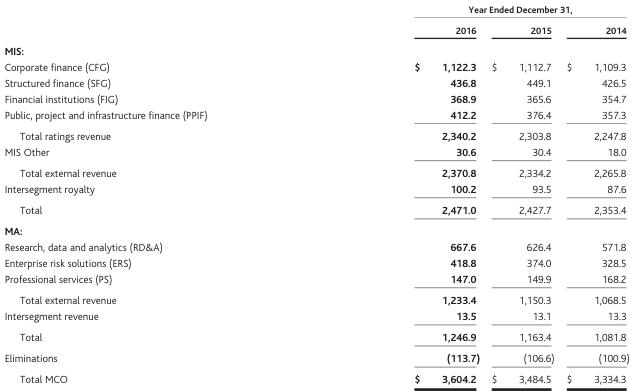table: (3, 3, 628, 384)
table column: (3, 3, 310, 384), (310, 3, 484, 384), (484, 3, 559, 384), (559, 3, 628, 384)
table column header: (3, 3, 628, 39)
table projected row header: (3, 39, 628, 58), (3, 220, 628, 238)
table row: (3, 199, 628, 220), (3, 326, 628, 347), (3, 347, 628, 368), (3, 19, 628, 39), (3, 39, 628, 58), (3, 106, 628, 125), (3, 143, 628, 162), (3, 180, 628, 199), (3, 270, 628, 289), (3, 307, 628, 326), (3, 125, 628, 143), (3, 162, 628, 180), (3, 220, 628, 238), (3, 289, 628, 307), (3, 3, 628, 19), (3, 58, 628, 74), (3, 74, 628, 90), (3, 90, 628, 106), (3, 238, 628, 254), (3, 254, 628, 270), (3, 368, 628, 384)
table spanning cell: (310, 3, 628, 19)
